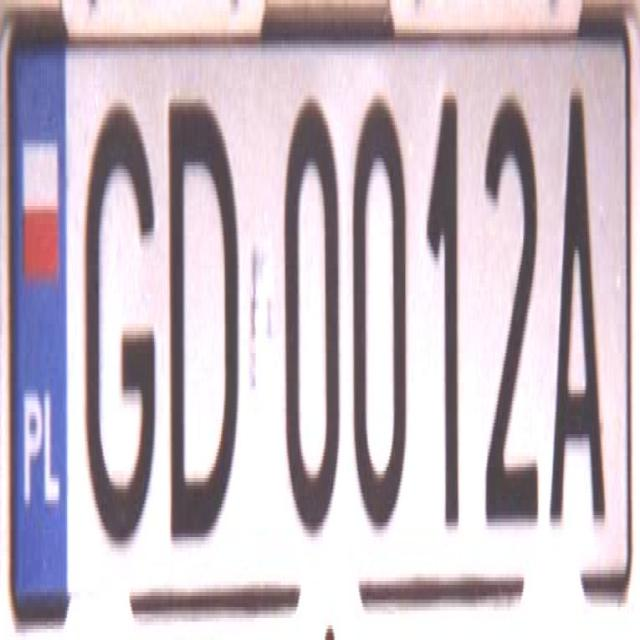pl_license_plate: (8, 30, 630, 592)
